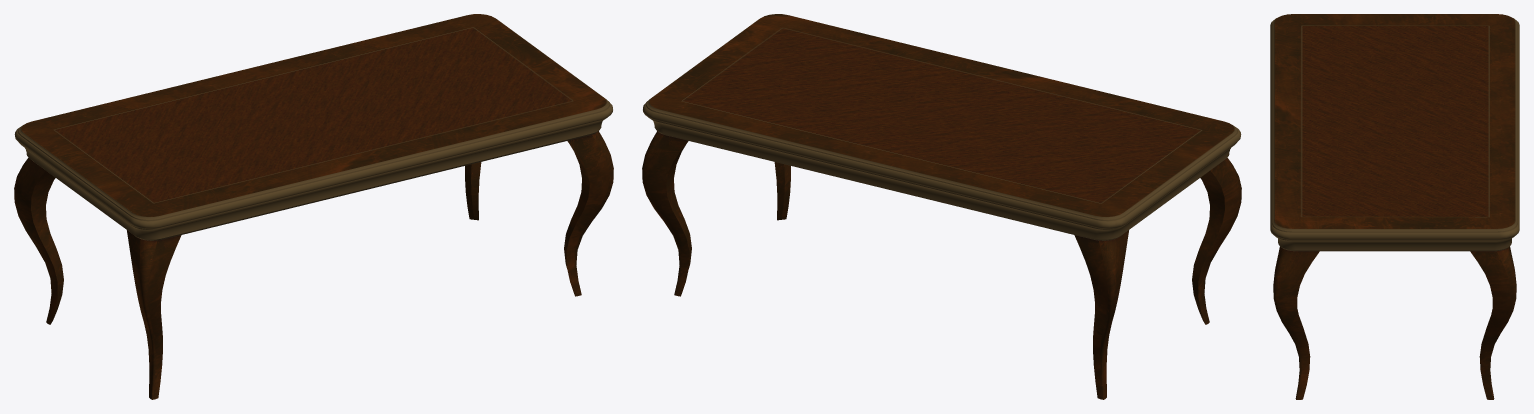
File: Table.obj
3 renders of one model, left to right at view 1: azimuth 30°, elevation 25°; view 2: azimuth 150°, elevation 25°; view 3: azimuth 270°, elevation 25°, orthographic. The views are drawn at different scales.
Visible parts, largest first — view 1: Vintage_Furniture_Coffee_Table_OBJ; view 2: Vintage_Furniture_Coffee_Table_OBJ; view 3: Vintage_Furniture_Coffee_Table_OBJ.
Boxes of the visible parts, x1,y1,x2,y2 form: Vintage_Furniture_Coffee_Table_OBJ: (14,14,613,399); Vintage_Furniture_Coffee_Table_OBJ: (642,14,1241,399); Vintage_Furniture_Coffee_Table_OBJ: (1270,14,1519,399).
Bounding box in the file's own units: 163 × 62.62 × 78.49.
Materials: 1 (1 with a texture image).
